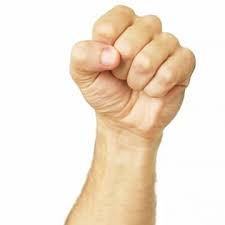fist: (68, 2, 199, 142)
